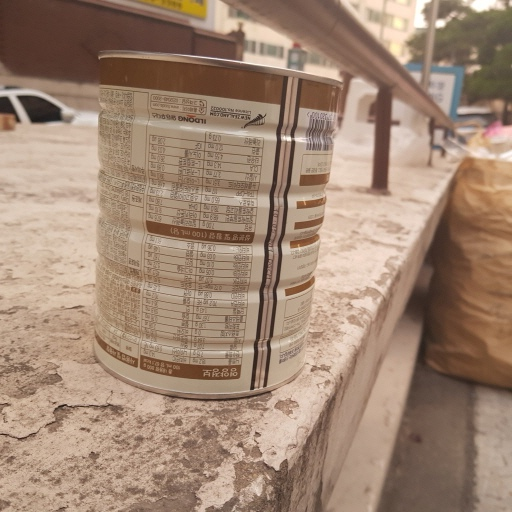Metal_1: (90, 46, 336, 399)
